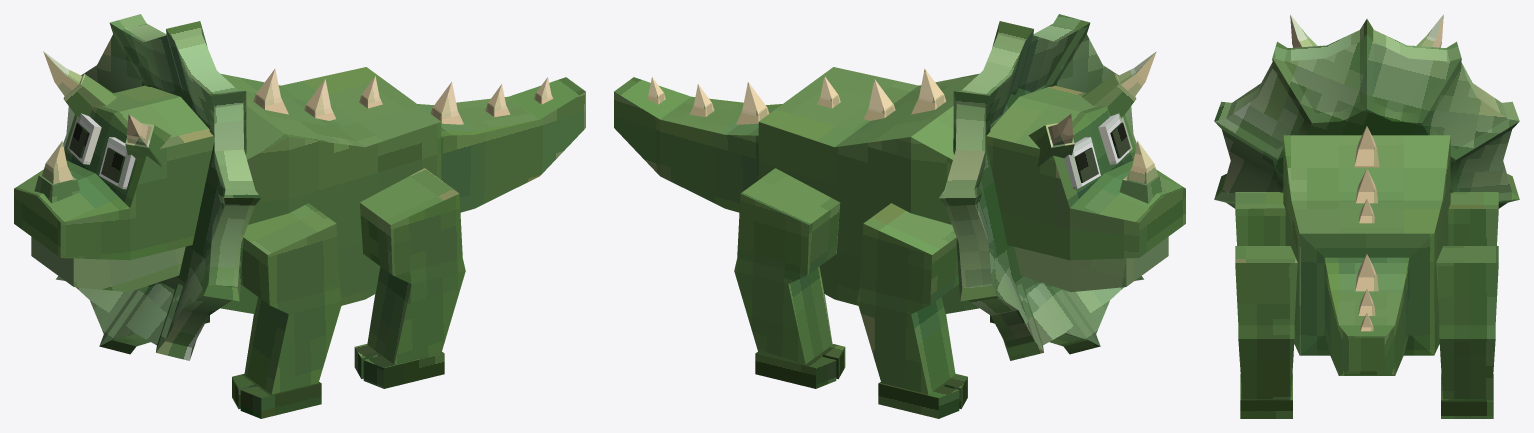
File: animal_triceratops.obj
3 renders of one model, left to right at view 1: azimuth 30°, elevation 25°; view 2: azimuth 150°, elevation 25°; view 3: azimuth 270°, elevation 25°, orthographic. The views are drawn at different scales.
Visible parts, largest first — view 1: animal_triceratops; view 2: animal_triceratops; view 3: animal_triceratops.
Part boxes in pixels (left/top/right/bottom): animal_triceratops: left=14, top=14, right=585, bottom=418; animal_triceratops: left=614, top=14, right=1185, bottom=418; animal_triceratops: left=1214, top=14, right=1519, bottom=418.
Size of the model in its own units: 14.11 by 8.62 by 7.72.
Materials: 1 (1 with a texture image).
